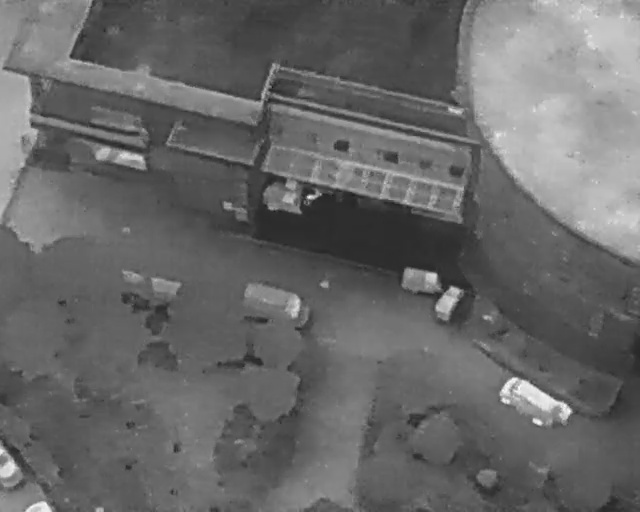Car: (495, 371, 575, 437), (236, 278, 316, 334), (430, 282, 467, 325), (399, 265, 442, 295)
